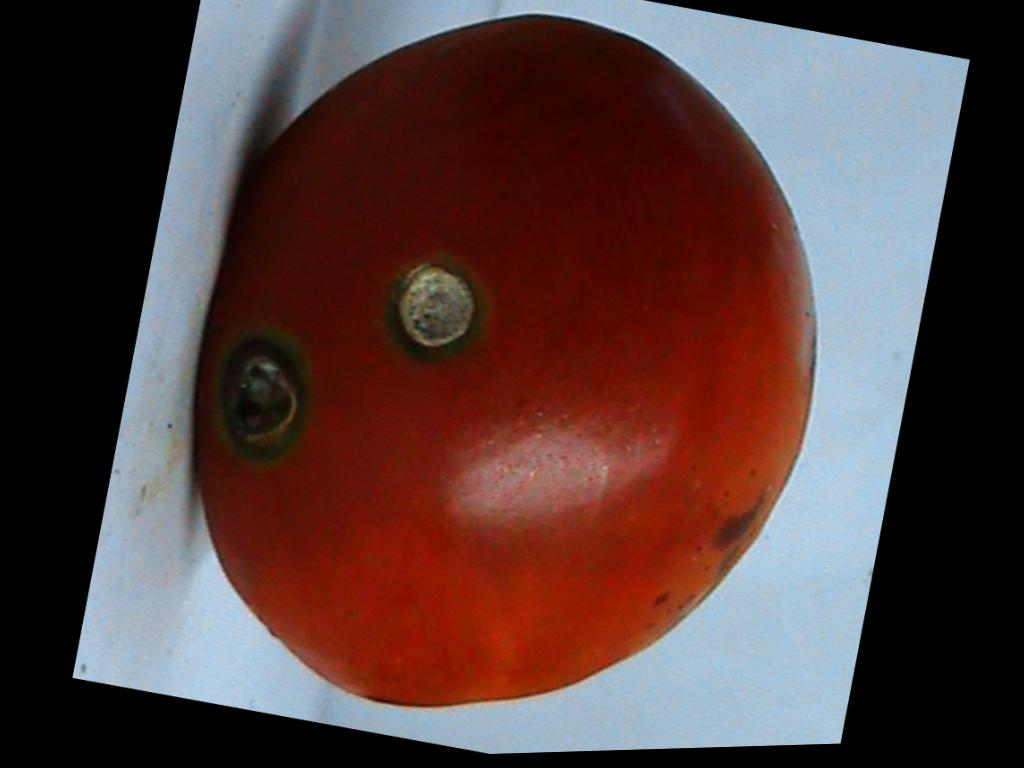bruise_discoloration: (625, 486, 774, 652)
rot_mold_decay: (223, 340, 303, 449), (395, 264, 476, 344)
tomato: (198, 13, 816, 705)
